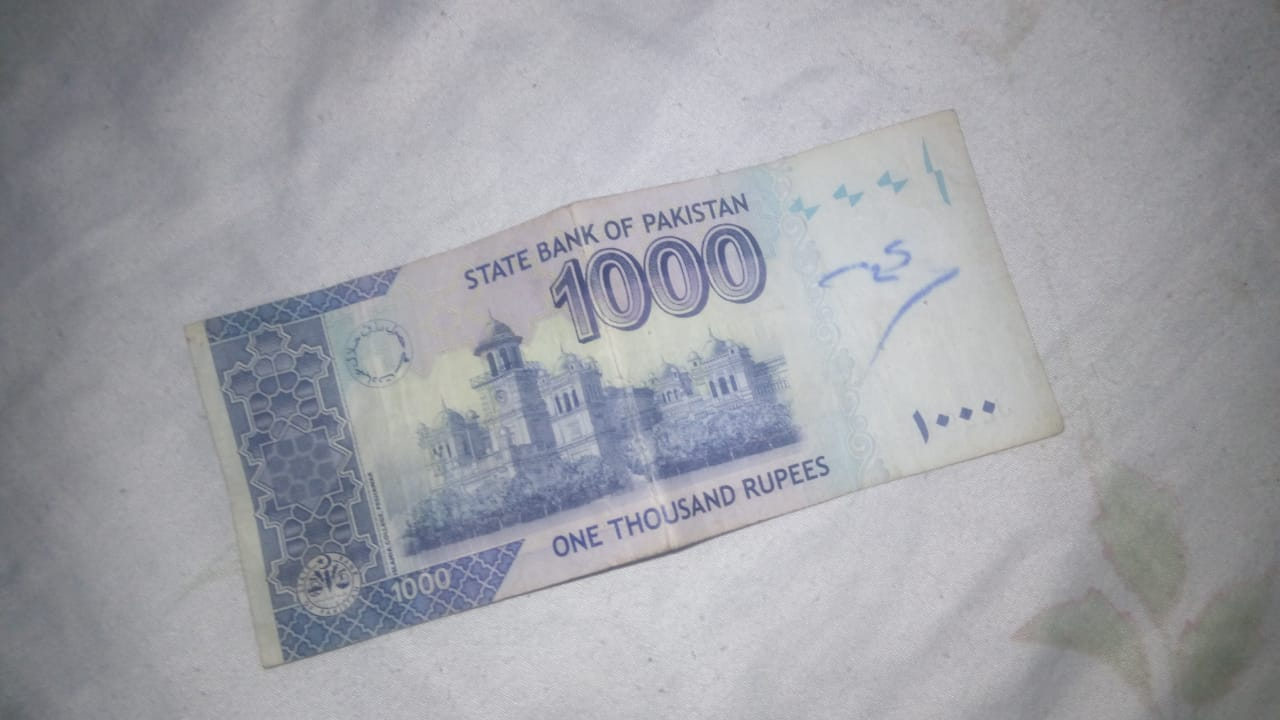1000 rupee: (193, 90, 1086, 683)
